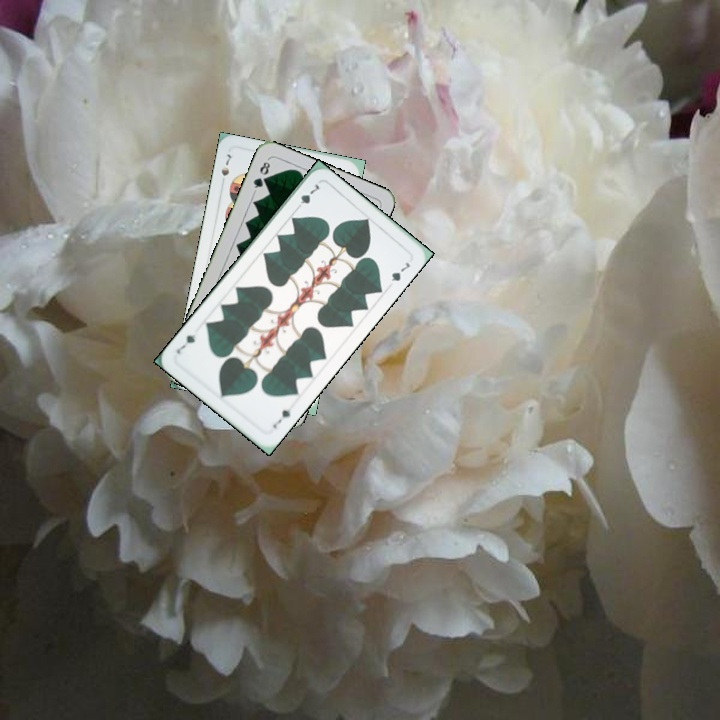G7: (291, 180, 322, 213), (269, 405, 293, 431)
G8: (249, 156, 273, 194)
S7: (217, 150, 234, 189)
